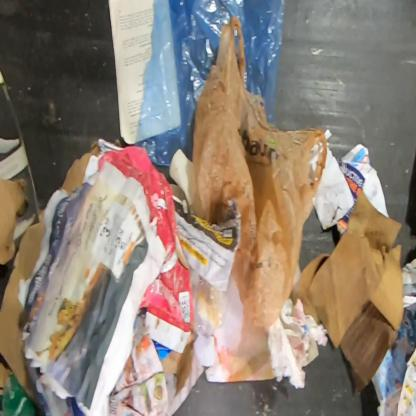cardboard: (0, 209, 45, 392), (0, 176, 30, 268), (0, 361, 47, 415), (60, 141, 102, 194)
soft_plastic: (188, 15, 328, 329), (134, 0, 286, 167), (98, 145, 192, 333), (215, 275, 270, 378), (188, 263, 229, 338)
